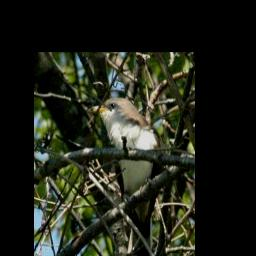Cuckoo: (86, 97, 166, 256)
